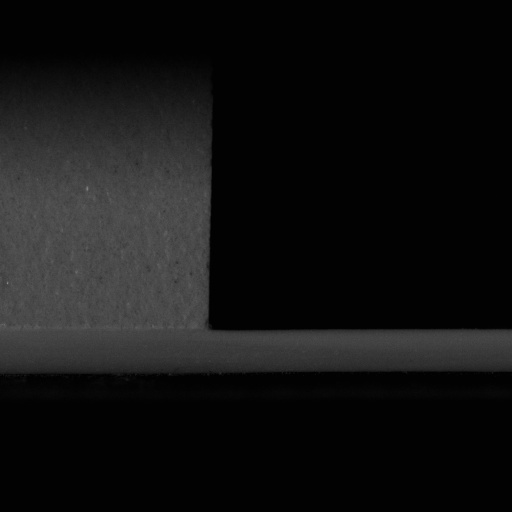changdai: (203, 326, 511, 377)
